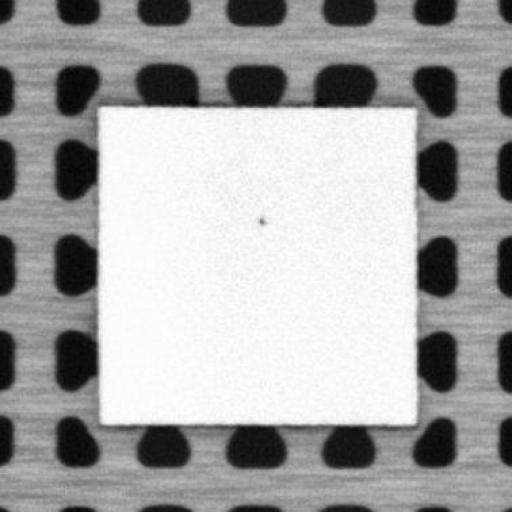DIE_INK: (254, 214, 266, 226)
